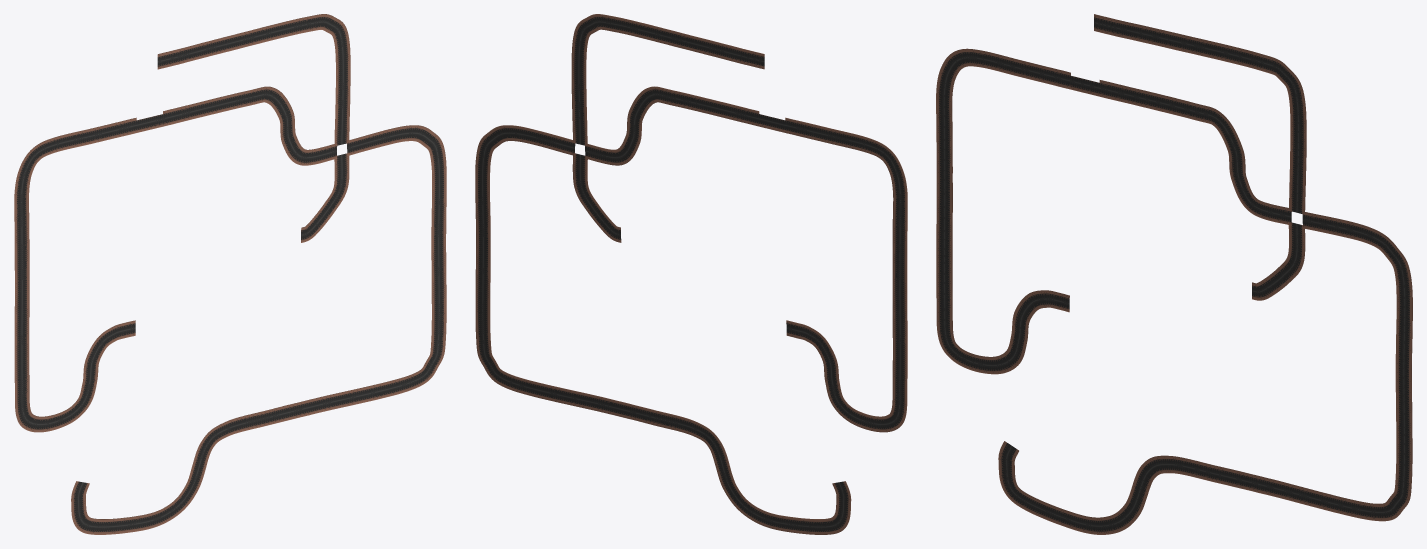
The model's file is StreetRoads.FBX.
3 views of the same model, side by side, from view 1: azimuth 30°, elevation 25°; view 2: azimuth 150°, elevation 25°; view 3: azimuth 330°, elevation 25° (orthographic). The views are drawn at different scales.
Visible parts, largest first — view 1: RCC_Scene_City; view 2: RCC_Scene_City; view 3: RCC_Scene_City.
Boxes of the visible parts, x1=… form: RCC_Scene_City: x1=14, y1=14, x2=446, y2=534; RCC_Scene_City: x1=475, y1=14, x2=907, y2=534; RCC_Scene_City: x1=936, y1=14, x2=1412, y2=534.
Bounding box in the file's own units: 11.92 × 12.49 × 0.0162.
Materials: 1 (1 with a texture image).
